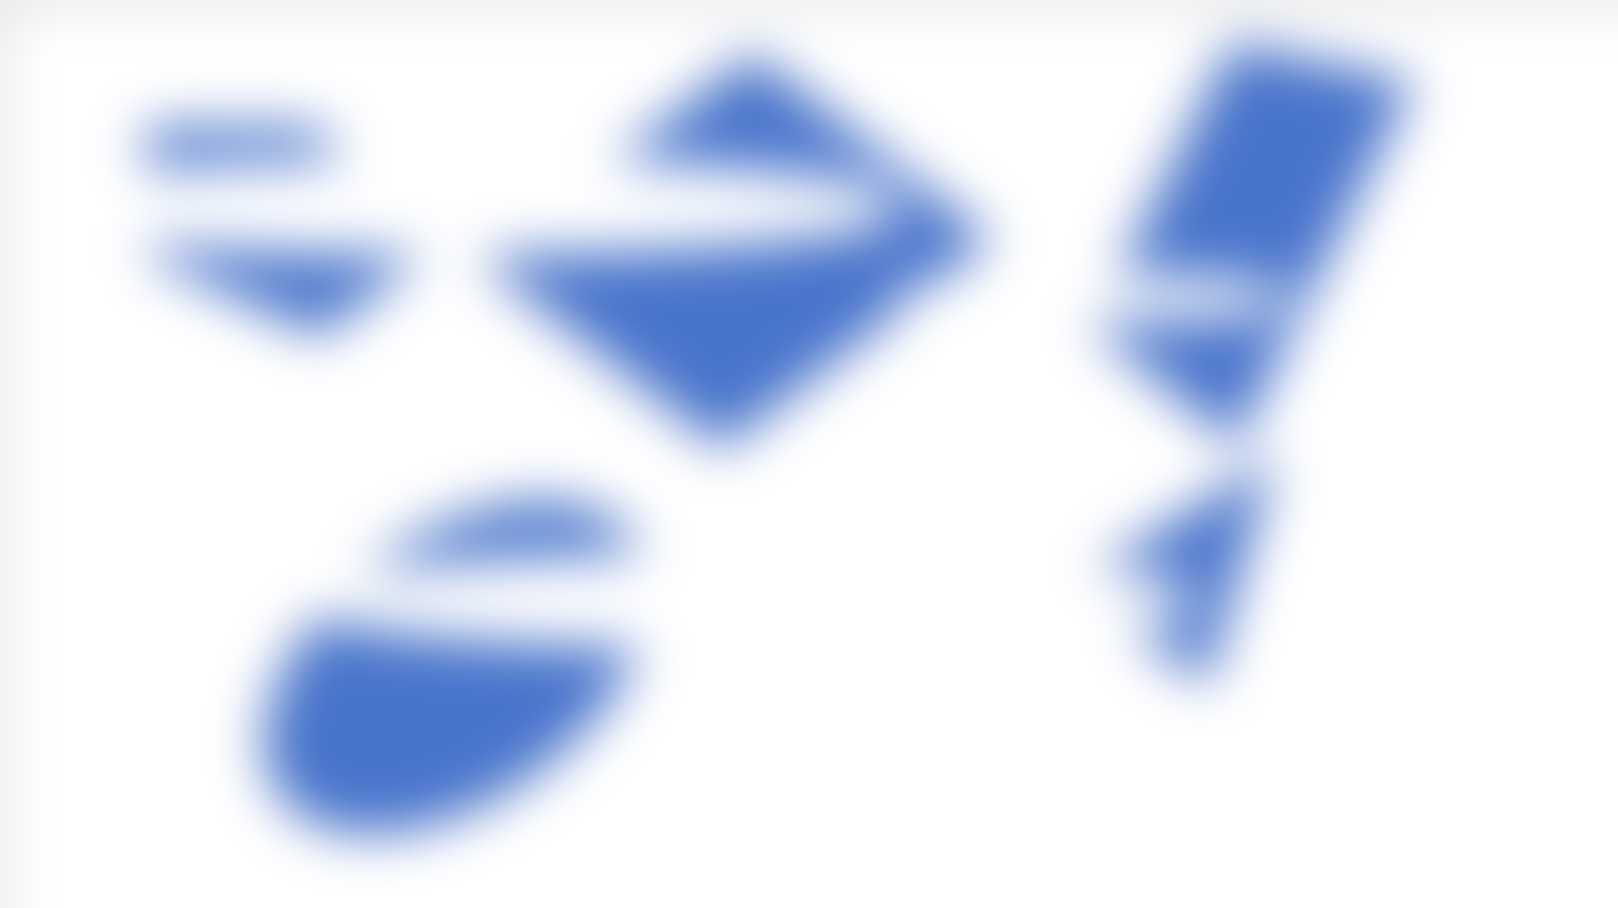circle: (224, 473, 680, 894)
parallelogram: (510, 61, 992, 436)
pentagon: (123, 86, 404, 339)
trapezium: (1076, 27, 1470, 449)
triangle: (1085, 473, 1311, 688)
